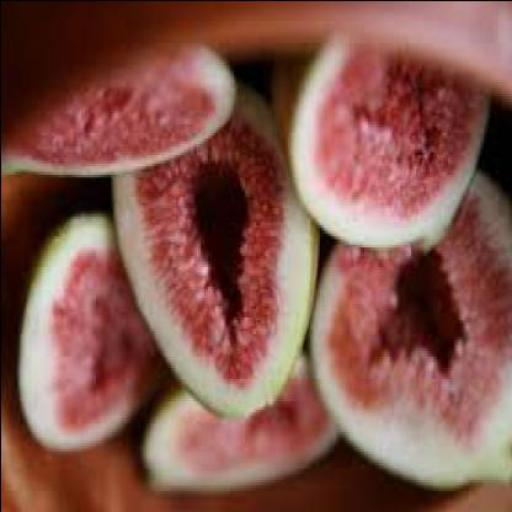biodegradable: (113, 78, 320, 423), (309, 170, 511, 490), (271, 45, 492, 260), (15, 213, 167, 459), (4, 47, 240, 179), (142, 352, 338, 498)
